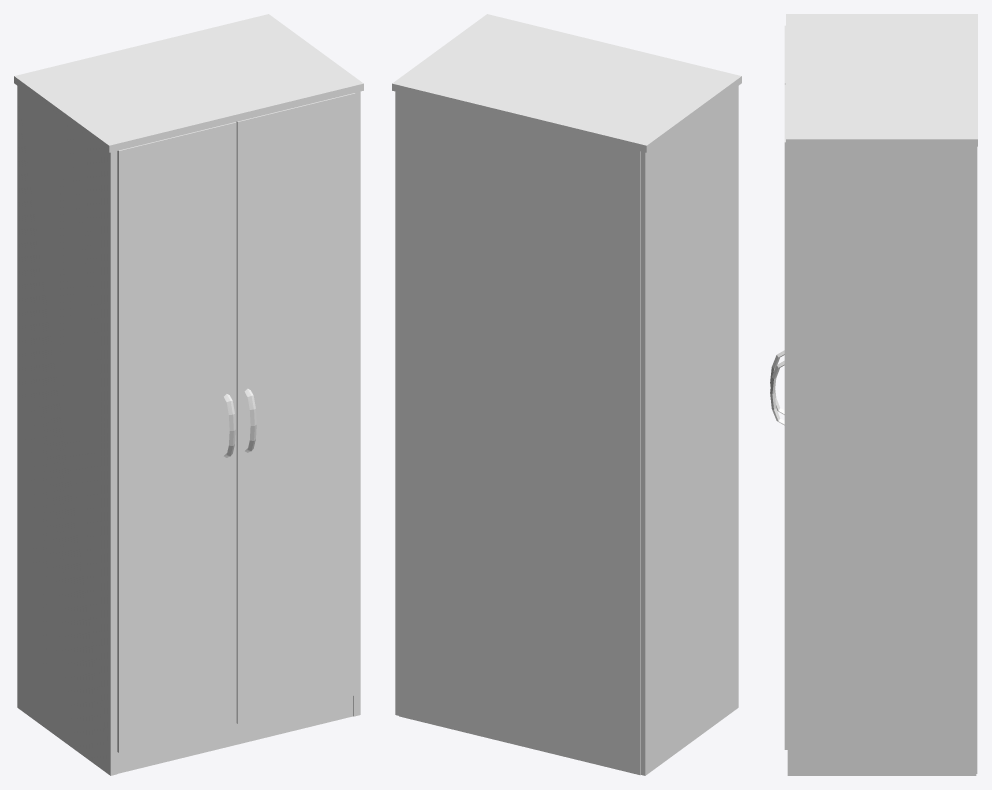
The model's file is Prop_Wardrobe_01.glb.
3 renders of one model, left to right at view 1: azimuth 30°, elevation 25°; view 2: azimuth 150°, elevation 25°; view 3: azimuth 270°, elevation 25°, orthographic.
Parts seen in each view (by area): view 1: Prop_Wardrobe_01, Prop_Wardrobe_Left_01, Prop_Wardrobe_Right_01; view 2: Prop_Wardrobe_01; view 3: Prop_Wardrobe_01, Prop_Wardrobe_Right_01.
Boxes of the visible parts, x1=… form: Prop_Wardrobe_01: x1=14, y1=14, x2=363, y2=775; Prop_Wardrobe_Left_01: x1=117, y1=122, x2=236, y2=752; Prop_Wardrobe_Right_01: x1=236, y1=93, x2=355, y2=723; Prop_Wardrobe_01: x1=392, y1=14, x2=741, y2=775; Prop_Wardrobe_01: x1=786, y1=14, x2=977, y2=775; Prop_Wardrobe_Right_01: x1=770, y1=84, x2=787, y2=749.
Bounding box in the file's own units: 0.7639 × 1.81 × 0.5347.
Materials: 1 (1 with a texture image).
